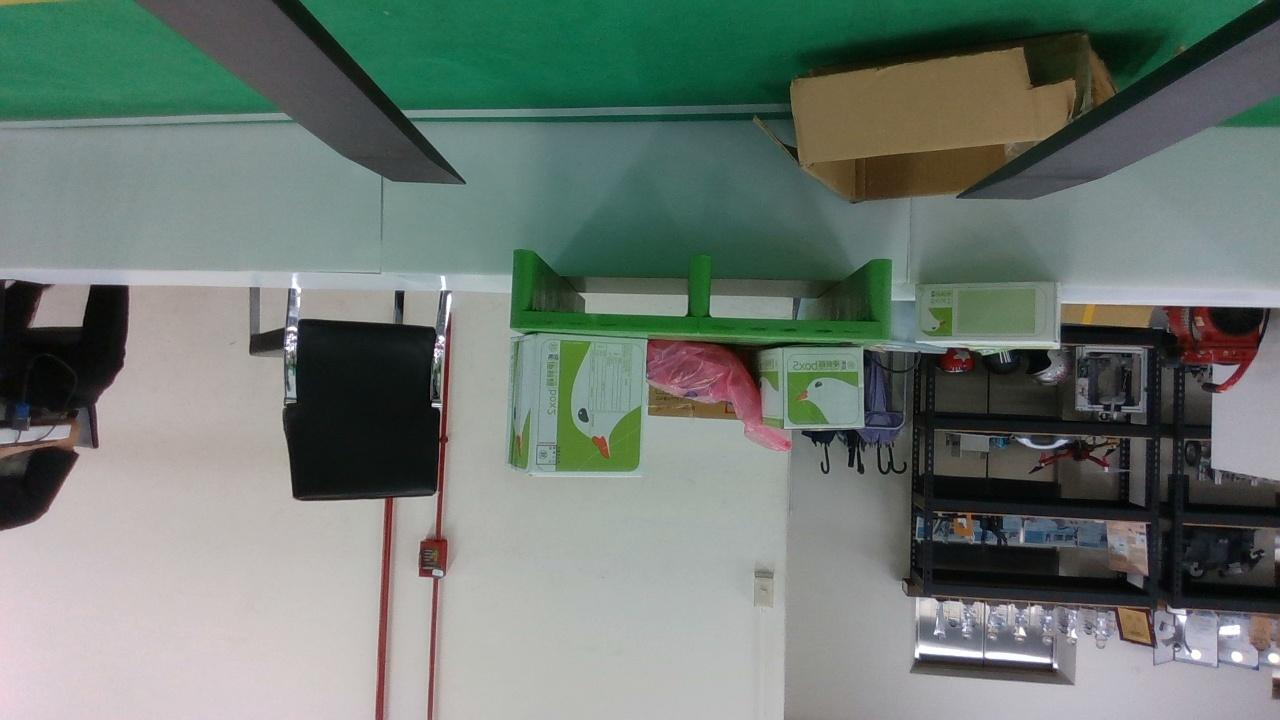Pallet: (509, 248, 892, 342)
